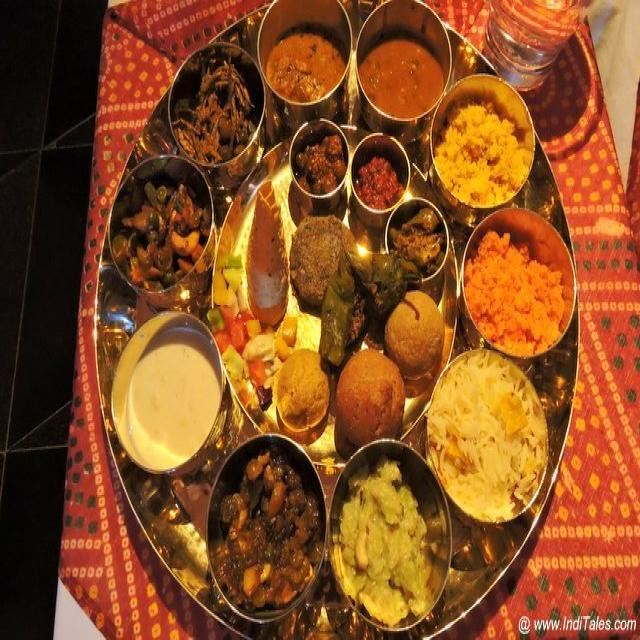dal: (110, 314, 223, 481), (328, 344, 413, 449), (383, 290, 447, 385)
papad: (426, 352, 555, 517)
rice: (433, 86, 528, 209)
sambar-rasam: (350, 1, 452, 127)
veg-fry: (287, 120, 414, 219), (174, 36, 260, 170)
